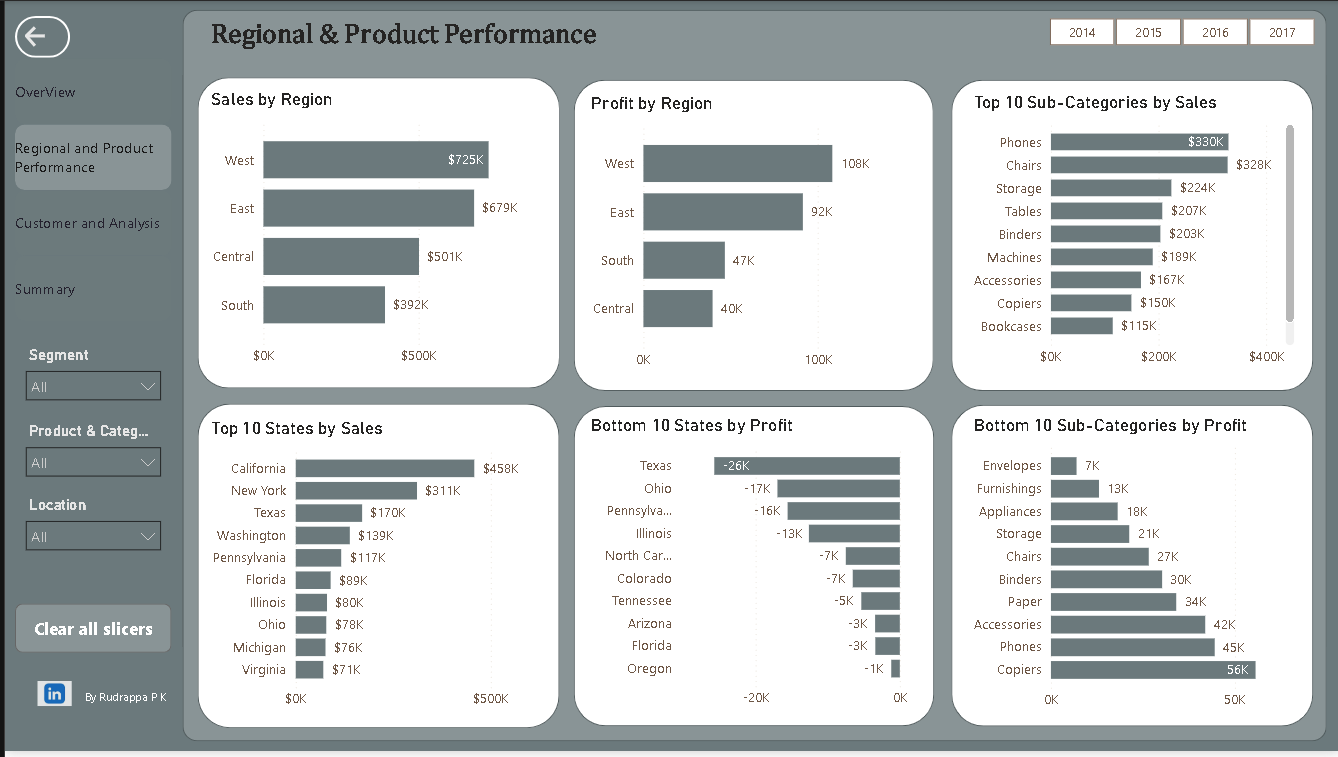

This screenshot's page, from the dashboard's own definition file:
{"tool":"powerbi","page":{"name":"Regional and Product Performance","canvas":[1280,720],"ordinal":1},"visuals":[{"type":"shape","box":[170,8.6,1097.1,701.4],"z":0},{"type":"slicer","fields":{"Values":["Sample_Superstore_Clean.Year"]},"box":[975.3,10.1,303.8,38.8],"z":1000},{"type":"textbox","box":[192.9,11.4,404.3,44.3],"z":2000},{"type":"shape","box":[184.3,72.9,347.6,298.4],"z":5000},{"type":"clusteredBarChart","title":"Sales by Region","fields":{"Category":["Sample_Superstore_Clean.Region"],"Y":["Sample_Superstore_Clean.Total Sales"]},"box":[192.9,84.3,330.8,274.5],"z":6000},{"type":"shape","box":[184.3,385.7,347.1,311.4],"z":7000},{"type":"clusteredBarChart","title":"Top 10 States by Sales","fields":{"Category":["Sample_Superstore_Clean.State"],"Y":["Sample_Superstore_Clean.Total Sales"]},"box":[192.9,398.6,331.4,288.6],"z":8000},{"type":"shape","box":[545.7,75.7,345.2,298.4],"z":9000},{"type":"clusteredBarChart","title":"Profit by Region","fields":{"Category":["Sample_Superstore_Clean.Region"],"Y":["Sample_Superstore_Clean.Total Profit"]},"box":[557.1,87.1,323.6,274.5],"z":10000},{"type":"shape","box":[545.7,388.6,345.7,307.1],"z":11000},{"type":"clusteredBarChart","title":"Bottom 10 States by Profit","fields":{"Category":["Sample_Superstore_Clean.State"],"Y":["Sample_Superstore_Clean.Total Profit"]},"box":[557.1,397.1,312.9,290],"z":12000},{"type":"shape","box":[907.1,75.7,347.1,298.6],"z":13000},{"type":"shape","box":[907.1,387.1,347.1,308.6],"z":14000},{"type":"clusteredBarChart","title":"Top 10 Sub-Categories by Sales","fields":{"Category":["Sample_Superstore_Clean.Sub-Category"],"Y":["Sample_Superstore_Clean.Total Sales"]},"box":[924.3,85.7,317.1,272.9],"z":15000},{"type":"clusteredBarChart","title":"Bottom 10 Sub-Categories by Profit","fields":{"Category":["Sample_Superstore_Clean.Sub-Category"],"Y":["Sample_Superstore_Clean.Total Profit"]},"box":[924.3,397.1,317.1,291.4],"z":16000},{"type":"pageNavigator","box":[10,55.7,150,255.7],"z":17001},{"type":"actionButton","box":[10,577.1,150,47.1],"z":17002},{"type":"slicer","fields":{"Values":["Sample_Superstore_Clean.Category","Sample_Superstore_Clean.Sub-Category"]},"box":[10,398.6,150,84.3],"z":17003},{"type":"slicer","fields":{"Values":["Sample_Superstore_Clean.Region","Sample_Superstore_Clean.State"]},"box":[10,470,150,84.3],"z":17004},{"type":"slicer","fields":{"Values":["Sample_Superstore_Clean.Segment"]},"box":[10,325.7,150,71.4],"z":17005},{"type":"image","box":[24.3,651.4,47.1,24.3],"z":17006},{"type":"textbox","box":[71.4,651.4,88.6,58.6],"z":17007},{"type":"actionButton","box":[10,14.3,52.9,40],"z":17008}]}

Visuals, with their boxes on the page's 1280x720 design canvas (x1, y1, x2, y2). These are canvas units, not pixel positions in the 1338x757 screenshot, which may show the page scaled, cropped or inside an application window:
shape: (left=170, top=9, right=1267, bottom=710)
slicer - Sample_Superstore_Clean.Year: (left=975, top=10, right=1279, bottom=49)
textbox: (left=193, top=11, right=597, bottom=56)
shape: (left=184, top=73, right=532, bottom=371)
"Sales by Region" clusteredBarChart: (left=193, top=84, right=524, bottom=359)
shape: (left=184, top=386, right=531, bottom=697)
"Top 10 States by Sales" clusteredBarChart: (left=193, top=399, right=524, bottom=687)
shape: (left=546, top=76, right=891, bottom=374)
"Profit by Region" clusteredBarChart: (left=557, top=87, right=881, bottom=362)
shape: (left=546, top=389, right=891, bottom=696)
"Bottom 10 States by Profit" clusteredBarChart: (left=557, top=397, right=870, bottom=687)
shape: (left=907, top=76, right=1254, bottom=374)
shape: (left=907, top=387, right=1254, bottom=696)
"Top 10 Sub-Categories by Sales" clusteredBarChart: (left=924, top=86, right=1241, bottom=359)
"Bottom 10 Sub-Categories by Profit" clusteredBarChart: (left=924, top=397, right=1241, bottom=688)
pageNavigator: (left=10, top=56, right=160, bottom=311)
actionButton: (left=10, top=577, right=160, bottom=624)
slicer - Sample_Superstore_Clean.Category x Sample_Superstore_Clean.Sub-Category: (left=10, top=399, right=160, bottom=483)
slicer - Sample_Superstore_Clean.Region x Sample_Superstore_Clean.State: (left=10, top=470, right=160, bottom=554)
slicer - Sample_Superstore_Clean.Segment: (left=10, top=326, right=160, bottom=397)
image: (left=24, top=651, right=71, bottom=676)
textbox: (left=71, top=651, right=160, bottom=710)
actionButton: (left=10, top=14, right=63, bottom=54)
